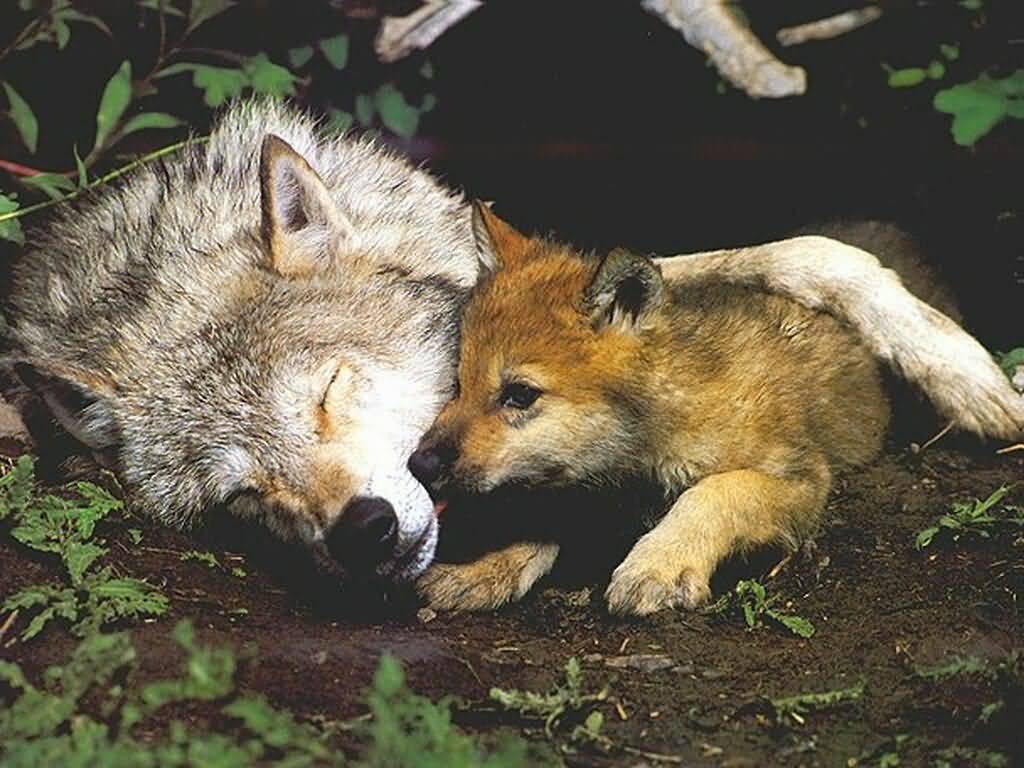wolf: (1, 80, 1024, 599), (396, 172, 910, 631)
